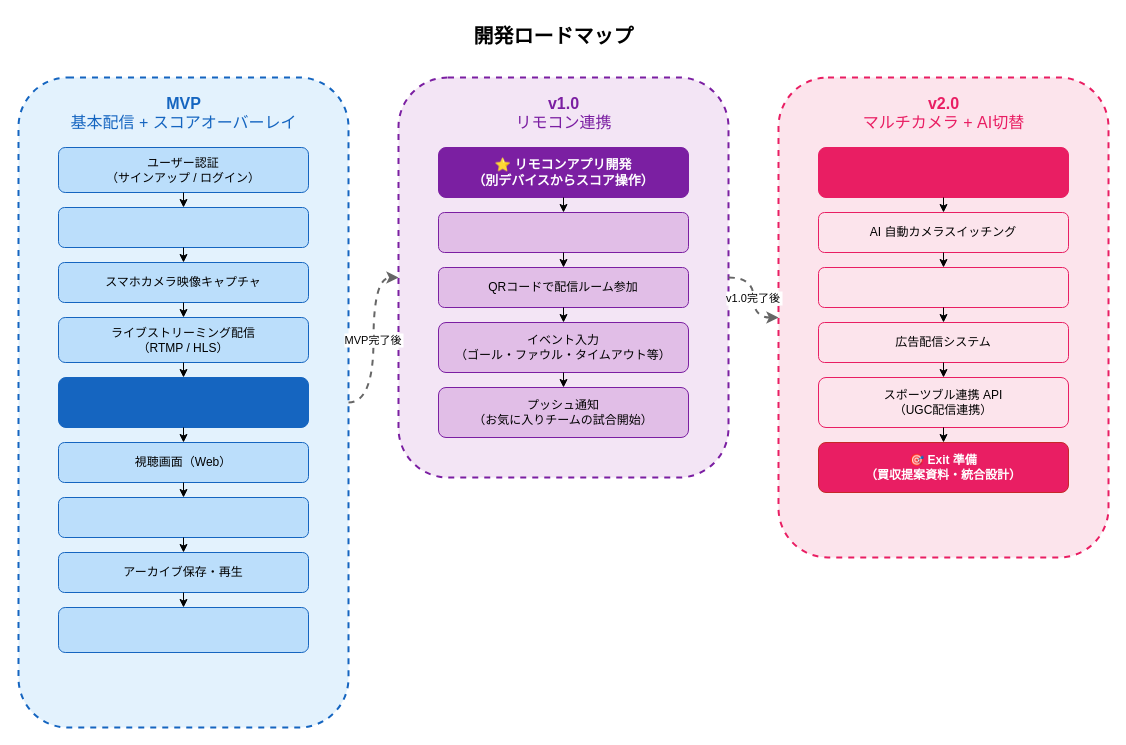
Image size: 1126x745. Some labels were removed from this diagram. The box of each missing label's shape, as (x1, y1, x2, y2) in pixels:
WebSocket リアルタイム同期: (438, 212, 688, 252)
⭐ スコアボード・オーバーレイ （TV中継風UI）: (58, 376, 308, 428)
⭐ マルチカメラ連携 （複数スマホ紐付け）: (818, 146, 1068, 198)
サブスクリプション決済 （Stripe）: (58, 606, 308, 652)
映像ミキシング・合成: (818, 266, 1068, 308)
試合作成・管理画面: (58, 206, 308, 248)
試合検索・一覧: (58, 496, 308, 538)
